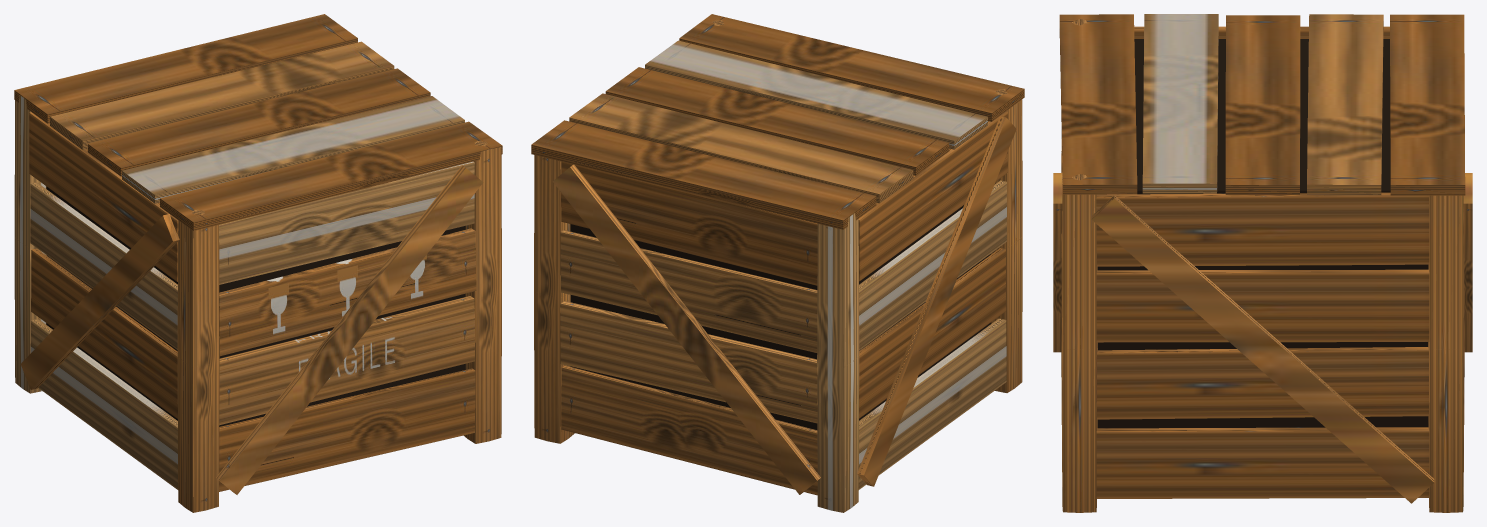
The model's file is prop_soft_crate_b.glb.
The picture shows the model from 3 angles, left to right: view 1: azimuth 30°, elevation 25°; view 2: azimuth 150°, elevation 25°; view 3: azimuth 270°, elevation 25°; orthographic projection. The views are drawn at different scales.
Visible parts, largest first — view 1: prop_soft_crate_b_body; view 2: prop_soft_crate_b_body; view 3: prop_soft_crate_b_body.
Boxes of the visible parts, box(x1,y1,x2,y2) form: prop_soft_crate_b_body: box(14, 14, 502, 512); prop_soft_crate_b_body: box(531, 14, 1024, 512); prop_soft_crate_b_body: box(1053, 14, 1472, 512).
Bounding box in the file's own units: 0.852 × 0.74 × 0.852.
Materials: 1 (1 with a texture image).
